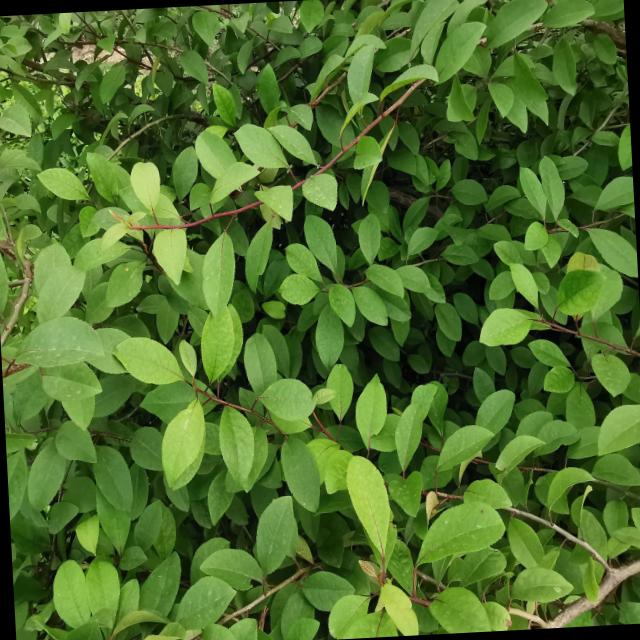Gugal: (31, 60, 640, 640), (90, 138, 493, 635)
